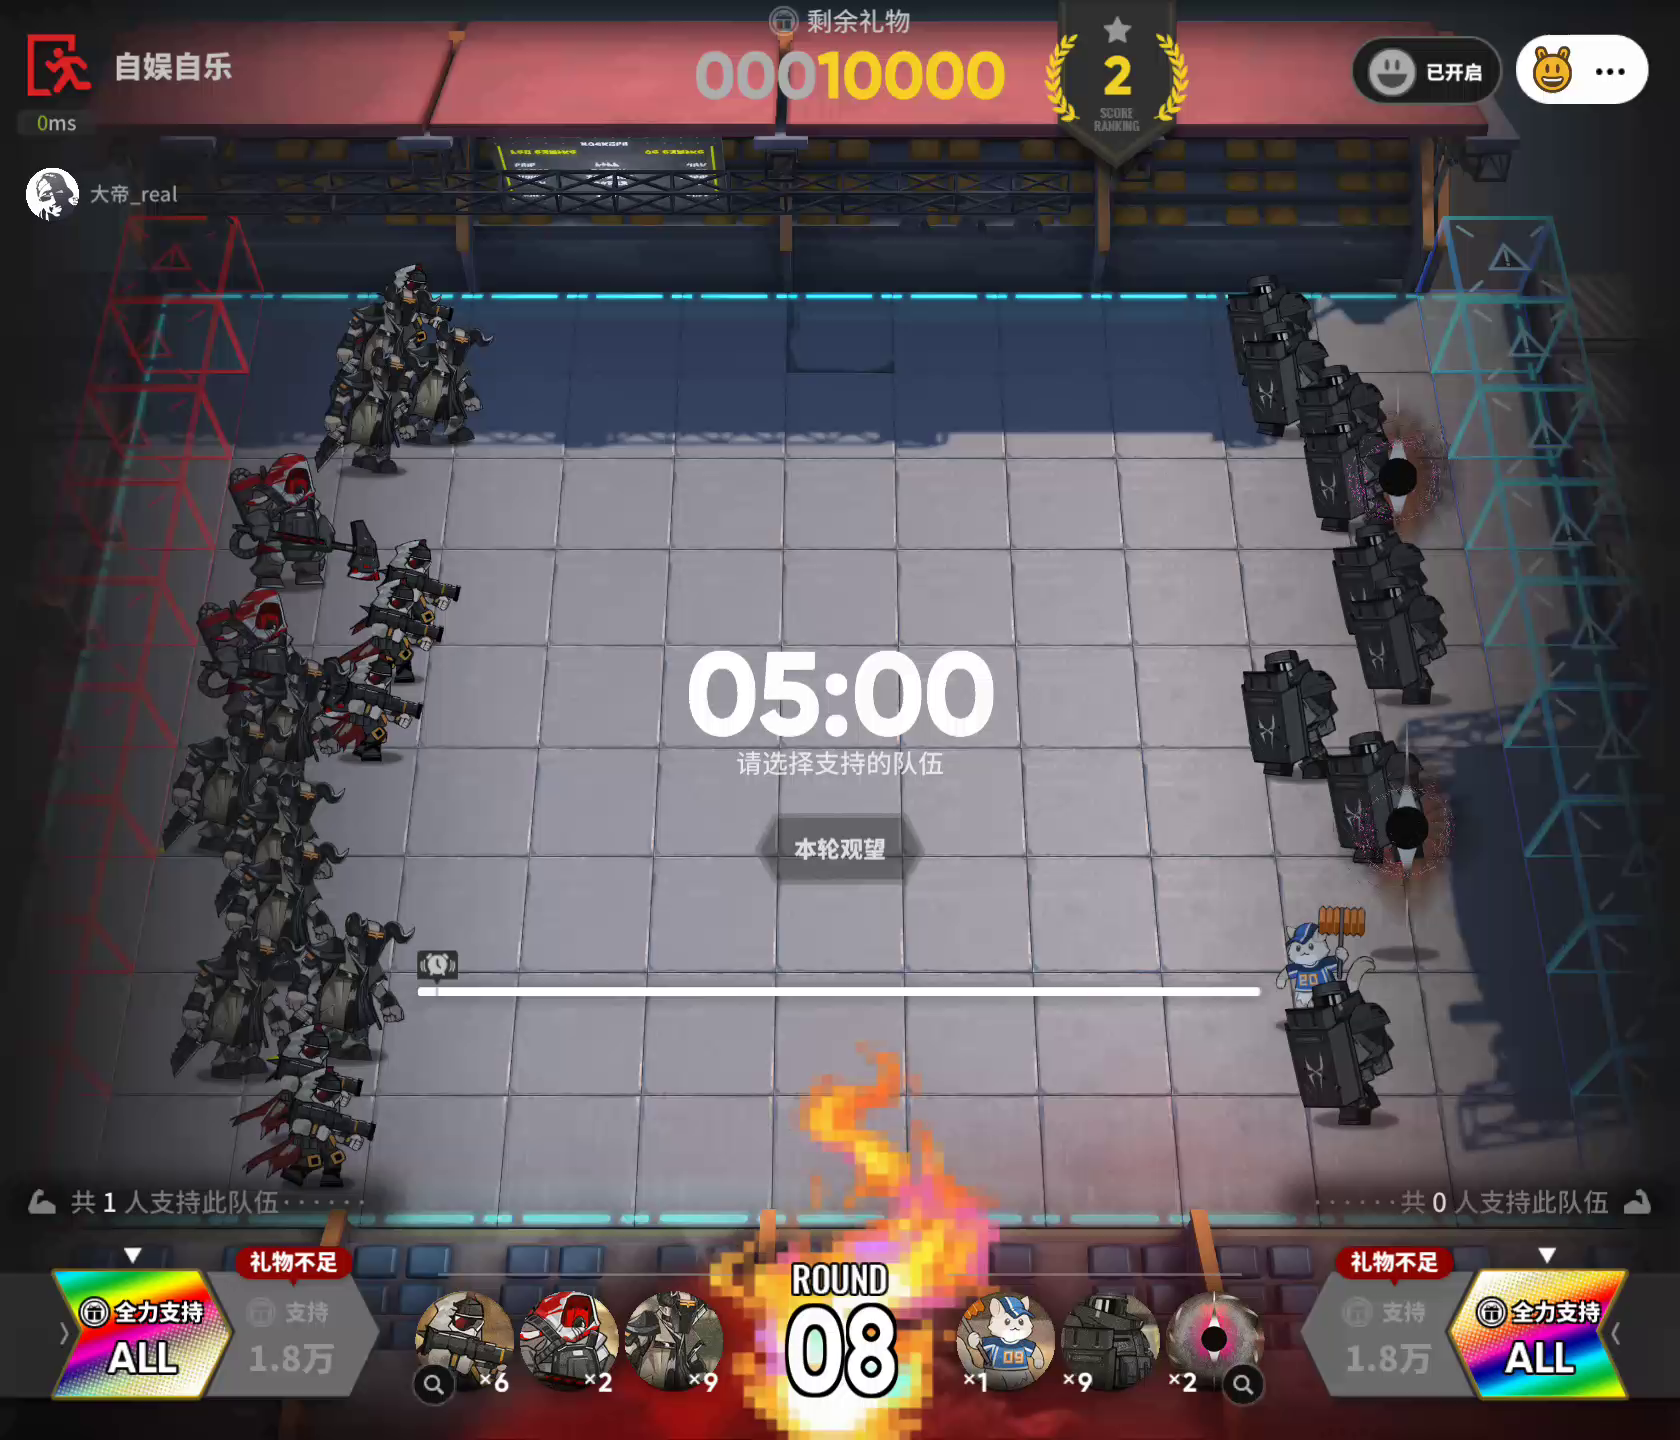“大斧”: (220, 449, 383, 591), (179, 581, 339, 714), (519, 1286, 623, 1391)
“门”: (1364, 747, 1451, 924), (1161, 1283, 1269, 1401), (1364, 387, 1441, 536)
大力锤球手: (1269, 896, 1379, 1011), (951, 1279, 1059, 1396)
普通的萨卡兹: (177, 930, 307, 1087), (289, 910, 419, 1061), (149, 711, 271, 871), (221, 831, 354, 966), (219, 771, 339, 914), (323, 346, 429, 489), (249, 651, 350, 781), (406, 313, 499, 449), (337, 279, 443, 384), (626, 1286, 726, 1391)
榴弹佣兵: (236, 1064, 376, 1187), (236, 1016, 369, 1127), (331, 649, 429, 767), (409, 1284, 516, 1389), (356, 579, 449, 683), (377, 530, 464, 617), (380, 254, 451, 313)
迟钝的持盾者: (1283, 971, 1403, 1130), (1320, 721, 1434, 871), (1239, 641, 1346, 783), (1349, 571, 1451, 706), (1304, 411, 1409, 531), (1327, 521, 1439, 633), (1246, 313, 1344, 439), (1059, 1286, 1157, 1399), (1227, 277, 1314, 374), (1301, 361, 1386, 450)
